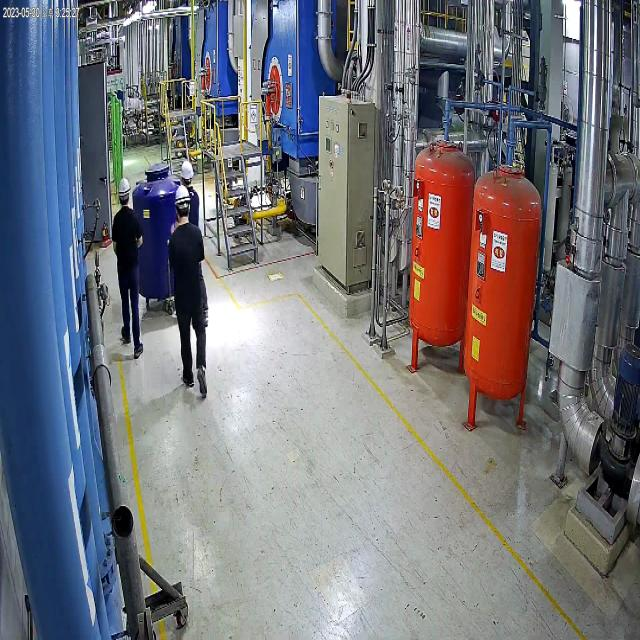Water Tank: (130, 155, 187, 314)
worker: (164, 188, 216, 410), (104, 168, 154, 367), (172, 154, 203, 260)
